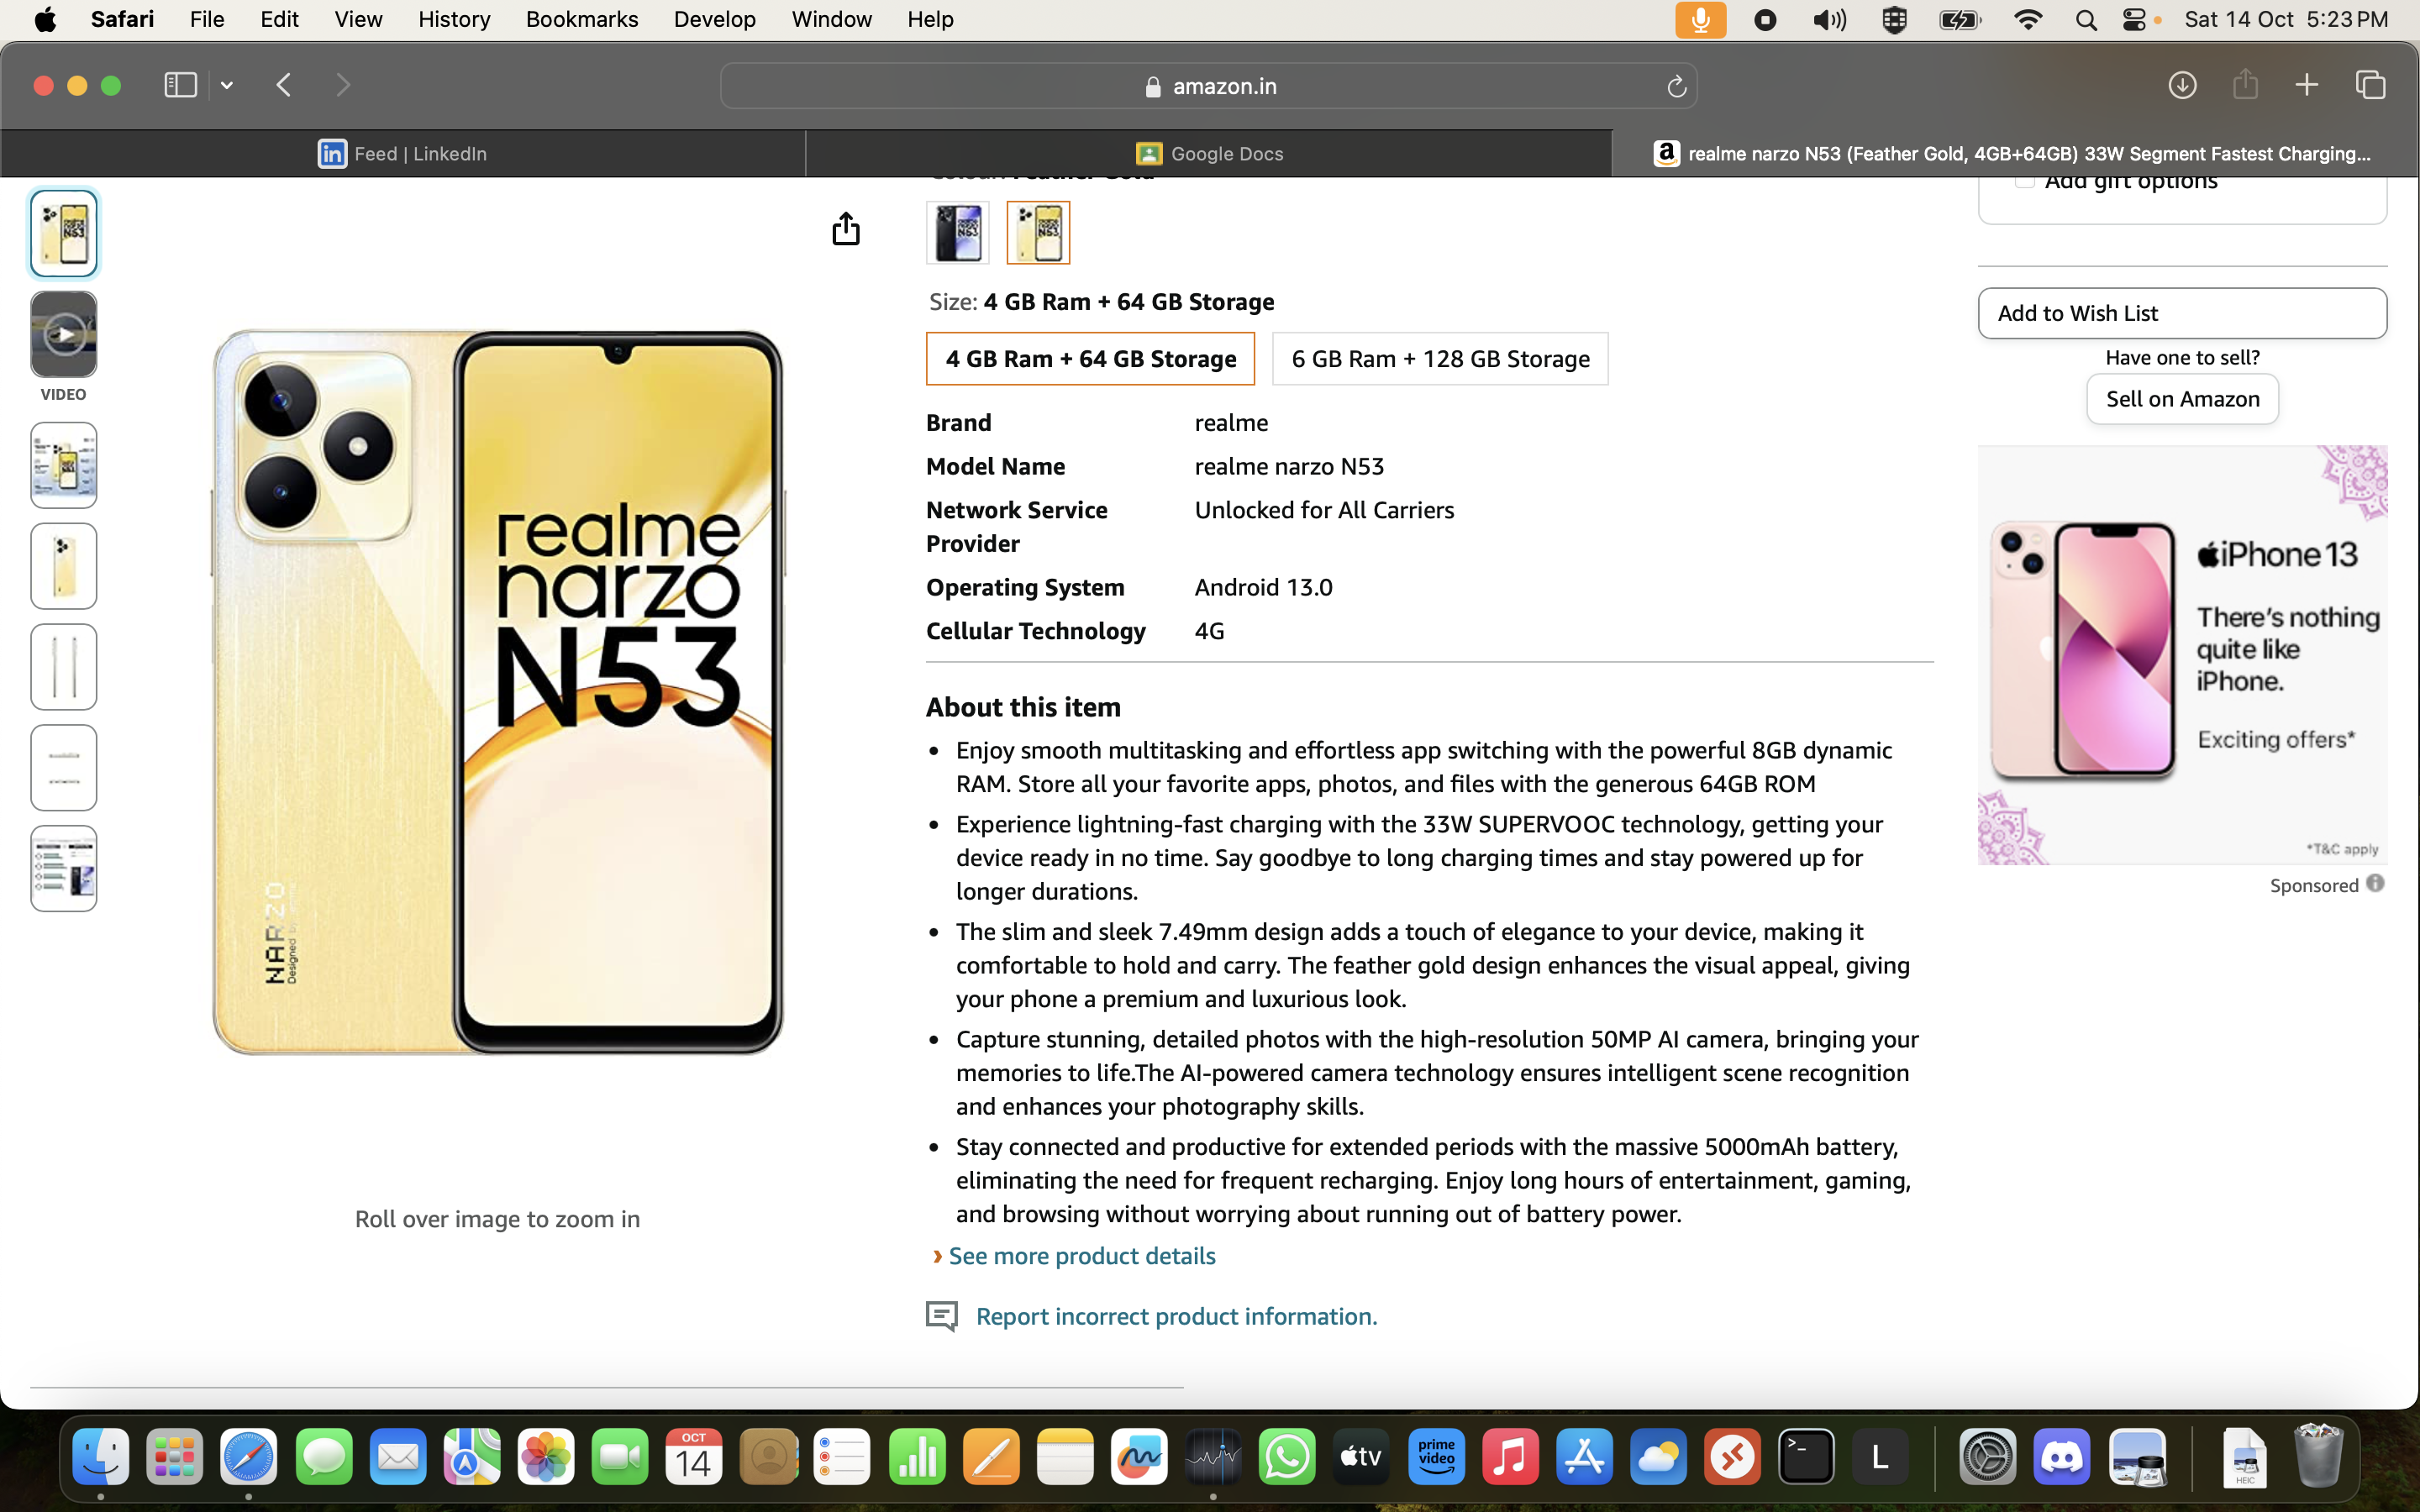Image: (204, 340, 793, 1056), (1997, 500, 2183, 793), (24, 822, 98, 906), (35, 195, 96, 268), (37, 624, 91, 705), (35, 435, 84, 503), (1012, 197, 1063, 261), (40, 735, 87, 803), (932, 200, 984, 261), (37, 538, 80, 599)
Paragraph: (944, 902, 1918, 1019), (953, 1019, 1925, 1120), (946, 1132, 1925, 1221), (951, 808, 1890, 901), (943, 735, 1889, 800), (955, 1291, 1401, 1341), (2194, 592, 2383, 702), (340, 1188, 669, 1242), (939, 336, 1249, 383), (943, 1228, 1235, 1275), (1289, 333, 1605, 373), (916, 496, 1108, 561), (920, 293, 1284, 322), (916, 685, 1124, 726), (1183, 496, 1463, 526), (2190, 530, 2366, 575), (2195, 718, 2359, 765), (923, 564, 1127, 601), (1984, 291, 2169, 331), (923, 620, 1157, 651), (1186, 451, 1387, 486), (1186, 568, 1347, 606), (2101, 336, 2265, 373), (916, 451, 1073, 488), (2105, 383, 2263, 413), (1193, 395, 1277, 448), (915, 402, 998, 435), (1192, 613, 1228, 639)
